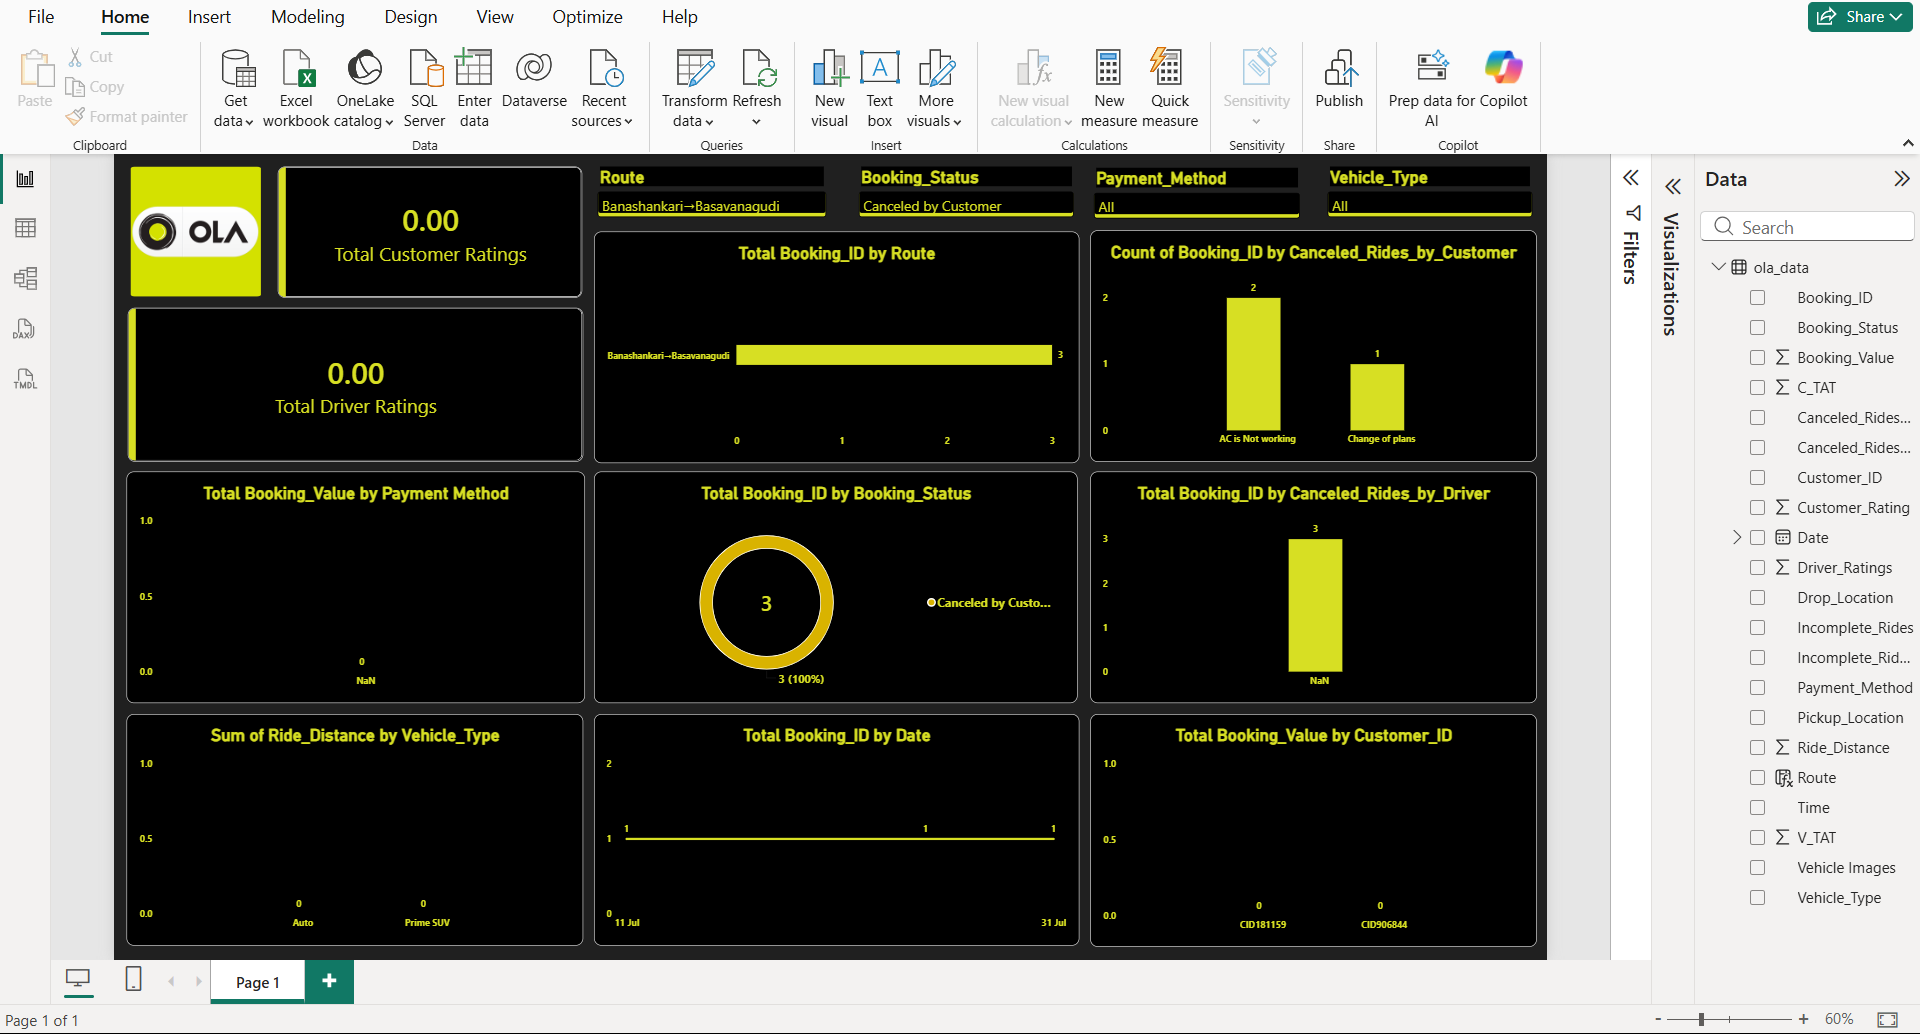

Layout of this report page (visuals, bound fields, positions):
{"tool":"powerbi","page":{"name":"Page 1","canvas":[1920,1080],"ordinal":0},"visuals":[{"type":"lineChart","title":"Total Booking_ID by Date","fields":{"Y":["CountNonNull(ola_data.Booking_ID)"],"Category":["ola_data.Date.Variation.Date Hierarchy.Year","ola_data.Date.Variation.Date Hierarchy.Quarter","ola_data.Date.Variation.Date Hierarchy.Month","ola_data.Date.Variation.Date Hierarchy.Day"]},"box":[644,750,650,310],"z":0},{"type":"donutChart","title":"Total Booking_ID by Booking_Status","fields":{"Category":["ola_data.Booking_Status"],"Y":["CountNonNull(ola_data.Booking_ID)"]},"box":[644,426,648,310],"z":1000},{"type":"slicer","fields":{"Values":["ola_data.Vehicle_Type"]},"box":[1622,16,284,70],"z":2000},{"type":"clusteredColumnChart","fields":{"Y":["Sum(ola_data.Ride_Distance)"],"Category":["ola_data.Vehicle_Type"]},"box":[16,750,612,310],"z":3000},{"type":"columnChart","title":"Total Booking_Value by Payment Method","fields":{"Y":["Sum(ola_data.Booking_Value)"],"Category":["ola_data.Payment_Method"]},"box":[16,426,614,310],"z":4000},{"type":"clusteredColumnChart","title":"Total Booking_Value by Customer_ID","fields":{"Y":["Sum(ola_data.Booking_Value)"],"Category":["ola_data.Customer_ID"]},"box":[1308,750,598,312],"z":5000},{"type":"cardVisual","fields":{"Data":["Sum(ola_data.Driver_Ratings)"]},"box":[18,206,610,206],"z":6000},{"type":"cardVisual","fields":{"Data":["Sum(ola_data.Customer_Rating)"]},"box":[220,16,408,176],"z":7000},{"type":"columnChart","fields":{"Category":["ola_data.Canceled_Rides_by_Customer"],"Y":["CountNonNull(ola_data.Booking_ID)"]},"box":[1308,102,598,310],"z":8000},{"type":"columnChart","title":"Total Booking_ID by Canceled_Rides_by_Driver","fields":{"Category":["ola_data.Canceled_Rides_by_Driver"],"Y":["CountNonNull(ola_data.Booking_ID)"]},"box":[1308,426,598,310],"z":9000},{"type":"slicer","fields":{"Values":["ola_data.Booking_Status"]},"box":[994,16,298,70],"z":10000},{"type":"slicer","fields":{"Values":["ola_data.Payment_Method"]},"box":[1308,18,286,70],"z":11000},{"type":"clusteredBarChart","title":"Total Booking_ID by Route","fields":{"Category":["ola_data.Route"],"Y":["CountNonNull(ola_data.Booking_ID)"]},"box":[644,104,650,310],"z":12000},{"type":"slicer","fields":{"Values":["ola_data.Route"]},"box":[644,16,316,70],"z":13000},{"type":"image","box":[18,16,182,174],"z":14000}]}

Visuals, with their boxes on the page's 1920x1080 design canvas (x1, y1, x2, y2). These are canvas units, not pixel positions in the 1920x1034 screenshot, which may show the page scaled, cropped or inside an application window:
"Total Booking_ID by Date" lineChart: 644 750 1294 1060
"Total Booking_ID by Booking_Status" donutChart: 644 426 1292 736
slicer - ola_data.Vehicle_Type: 1622 16 1906 86
clusteredColumnChart - Sum(ola_data.Ride_Distance) x ola_data.Vehicle_Type: 16 750 628 1060
"Total Booking_Value by Payment Method" columnChart: 16 426 630 736
"Total Booking_Value by Customer_ID" clusteredColumnChart: 1308 750 1906 1062
cardVisual - Sum(ola_data.Driver_Ratings): 18 206 628 412
cardVisual - Sum(ola_data.Customer_Rating): 220 16 628 192
columnChart - ola_data.Canceled_Rides_by_Customer x CountNonNull(ola_data.Booking_ID): 1308 102 1906 412
"Total Booking_ID by Canceled_Rides_by_Driver" columnChart: 1308 426 1906 736
slicer - ola_data.Booking_Status: 994 16 1292 86
slicer - ola_data.Payment_Method: 1308 18 1594 88
"Total Booking_ID by Route" clusteredBarChart: 644 104 1294 414
slicer - ola_data.Route: 644 16 960 86
image: 18 16 200 190
